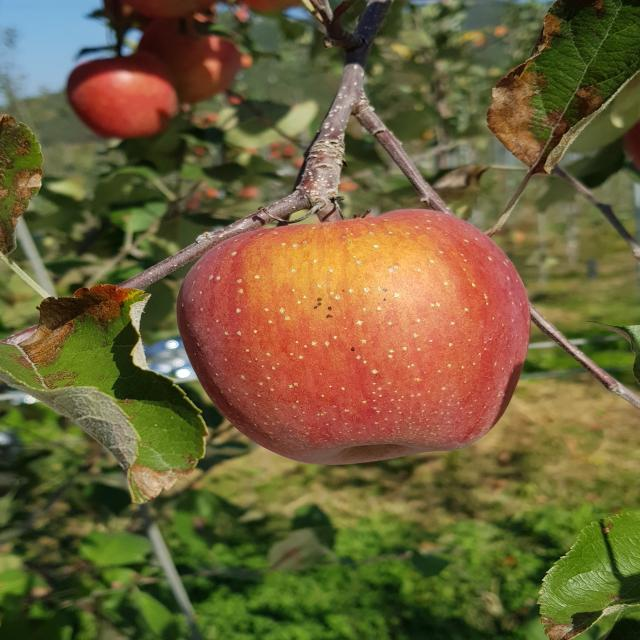fresh: (171, 203, 551, 472)
